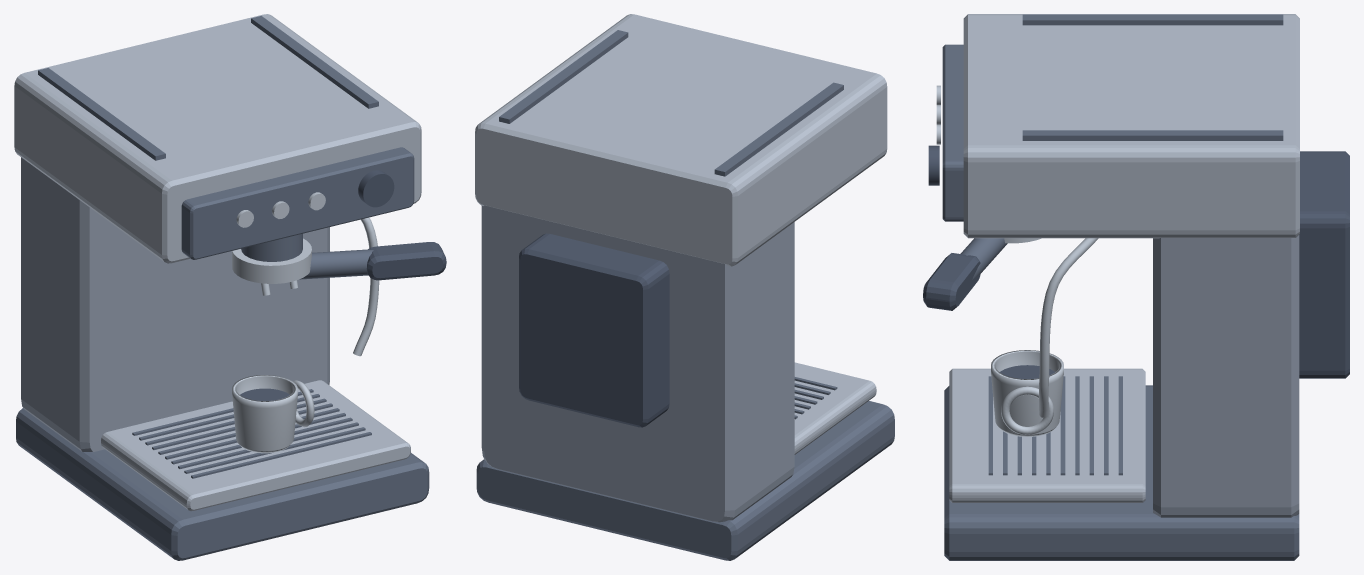
File: 咖啡机-lite.glb
3 views of the same model, side by side, from view 1: azimuth 30°, elevation 25°; view 2: azimuth 150°, elevation 25°; view 3: azimuth 270°, elevation 25° (orthographic). The views are drawn at different scales.
Parts seen in each view (by area): view 1: soft, body, dark, light, accent; view 2: soft, body, accent, dark; view 3: soft, body, dark, accent, light.
Part boxes in pixels (x1=…): soft: x1=14, y1=14, x2=421, y2=511; body: x1=21, y1=157, x2=329, y2=451; dark: x1=16, y1=16, x2=429, y2=560; light: x1=232, y1=192, x2=379, y2=453; accent: x1=240, y1=170, x2=446, y2=400; soft: x1=475, y1=14, x2=887, y2=454; body: x1=481, y1=205, x2=794, y2=522; accent: x1=519, y1=233, x2=669, y2=427; dark: x1=476, y1=30, x2=894, y2=560; soft: x1=949, y1=14, x2=1299, y2=502; body: x1=1153, y1=235, x2=1299, y2=517; dark: x1=942, y1=14, x2=1299, y2=560; accent: x1=923, y1=145, x2=1349, y2=378; light: x1=936, y1=85, x2=1098, y2=436.
Bounding box in the file's own units: 0.314 × 0.418 × 0.3846.
